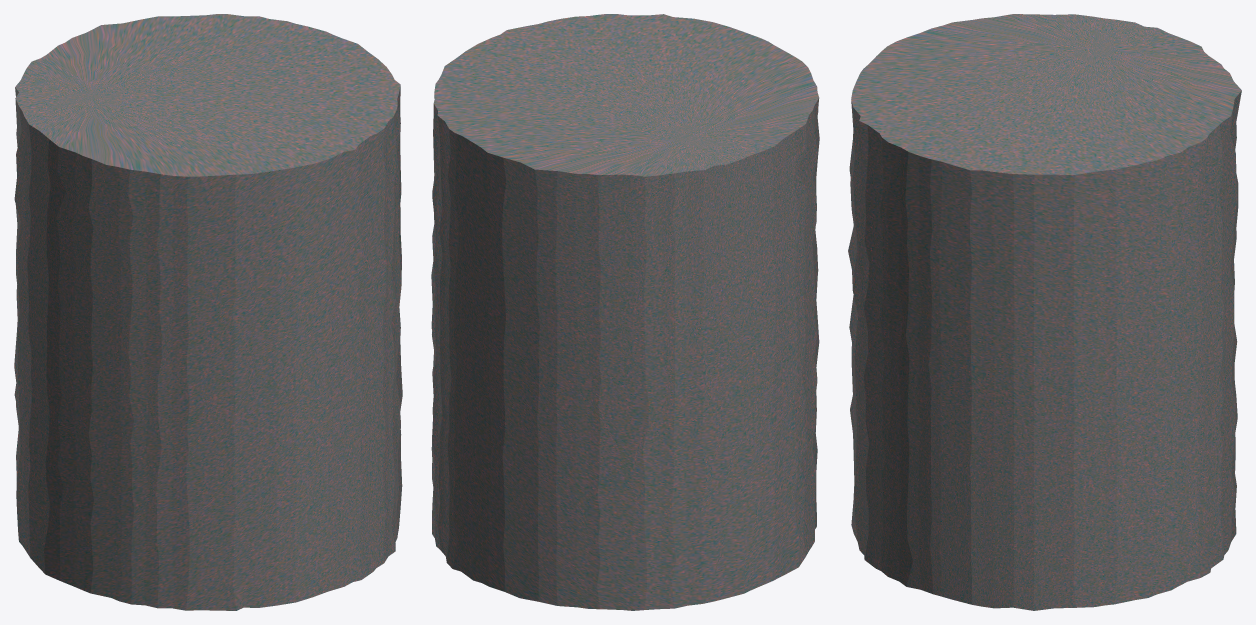
File: barrel_22.dae
3 renders of one model, left to right at view 1: azimuth 30°, elevation 25°; view 2: azimuth 150°, elevation 25°; view 3: azimuth 270°, elevation 25°, orthographic.
Visible parts, largest first — view 1: Cylinder; view 2: Cylinder; view 3: Cylinder.
Part boxes in pixels (<box>): Cylinder: <box>14,14,402,610</box>; Cylinder: <box>431,14,819,610</box>; Cylinder: <box>848,14,1241,610</box>.
Bounding box in the file's own units: 0.8165 × 0.8215 × 1.
1 material, 1 textured.
